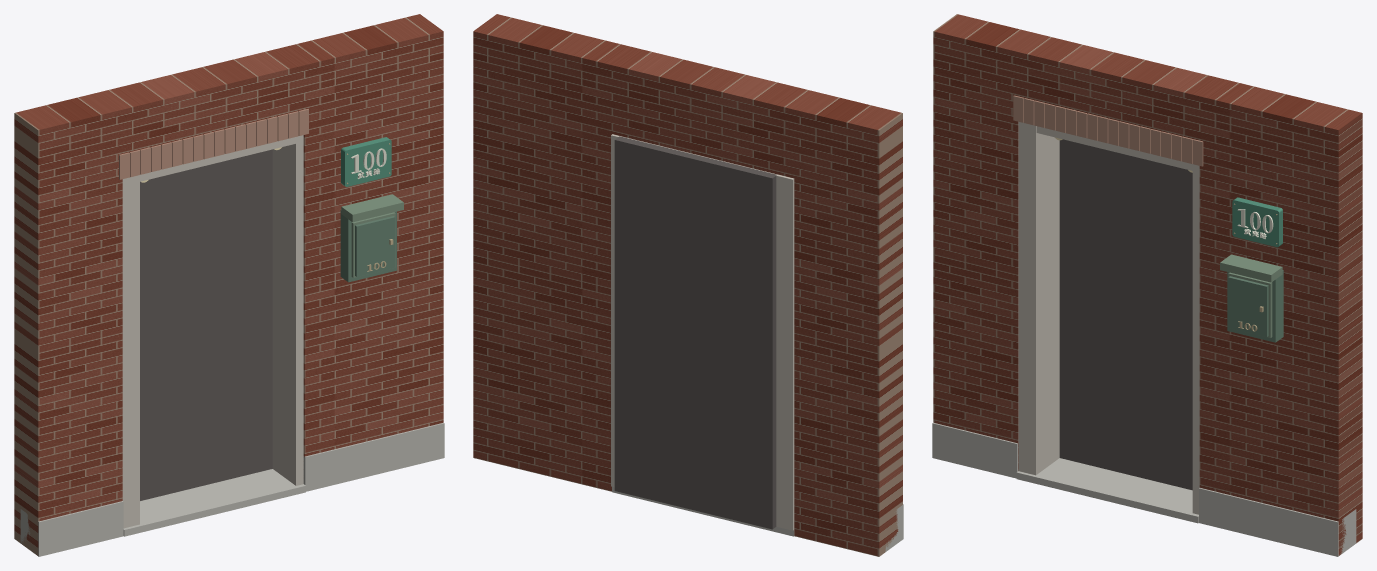
File: wuyi-100-numbered-door-and-mailbox-far.glb
3 views of the same model, side by side, from view 1: azimuth 30°, elevation 25°; view 2: azimuth 150°, elevation 25°; view 3: azimuth 330°, elevation 25° (orthographic).
Visible parts, largest first — view 1: 武夷路100号街门与绿色门牌邮箱; view 2: 武夷路100号街门与绿色门牌邮箱; view 3: 武夷路100号街门与绿色门牌邮箱.
Boxes of the visible parts, left/top/right/bottom form: 武夷路100号街门与绿色门牌邮箱: left=14, top=14, right=444, bottom=556; 武夷路100号街门与绿色门牌邮箱: left=473, top=14, right=903, bottom=556; 武夷路100号街门与绿色门牌邮箱: left=932, top=14, right=1362, bottom=556.
Bounding box in the file's own units: 2.42 × 2.43 × 0.443.
Materials: 11 (1 with a texture image).
